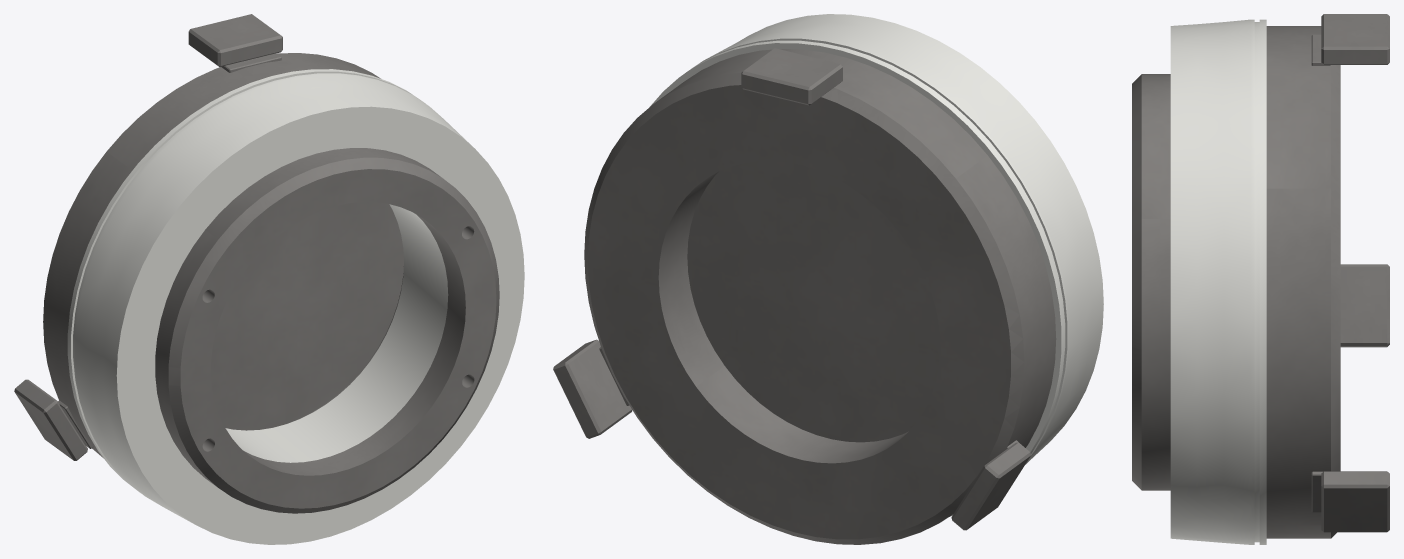
The model's file is ax_rover_12_dock_ring.glb.
3 renders of one model, left to right at view 1: azimuth 30°, elevation 25°; view 2: azimuth 150°, elevation 25°; view 3: azimuth 270°, elevation 25°, orthographic. The views are drawn at different scales.
Parts seen in each view (by area): view 1: adapter_body, hub_side_flange, hatch_door_1, station_collar, station_collar_petals; view 2: station_collar, hatch_door_1, adapter_body, station_collar_petals; view 3: adapter_body, station_collar, hub_side_flange, station_collar_petals.
Part boxes in pixels (<box>): adapter_body: <box>67,69,524,544</box>; hub_side_flange: <box>155,148,499,513</box>; hatch_door_1: <box>211,202,403,430</box>; station_collar: <box>43,53,403,458</box>; station_collar_petals: <box>14,14,282,460</box>; station_collar: <box>584,49,1056,544</box>; hatch_door_1: <box>687,161,940,442</box>; adapter_body: <box>650,14,1103,516</box>; station_collar_petals: <box>553,48,1030,530</box>; adapter_body: <box>1170,19,1266,544</box>; station_collar: <box>1266,26,1340,538</box>; hub_side_flange: <box>1132,74,1170,490</box>; station_collar_petals: <box>1311,14,1389,532</box>.
Bounding box in the file's own units: 1.64 × 1.69 × 0.804.
2 materials, 1 textured.
